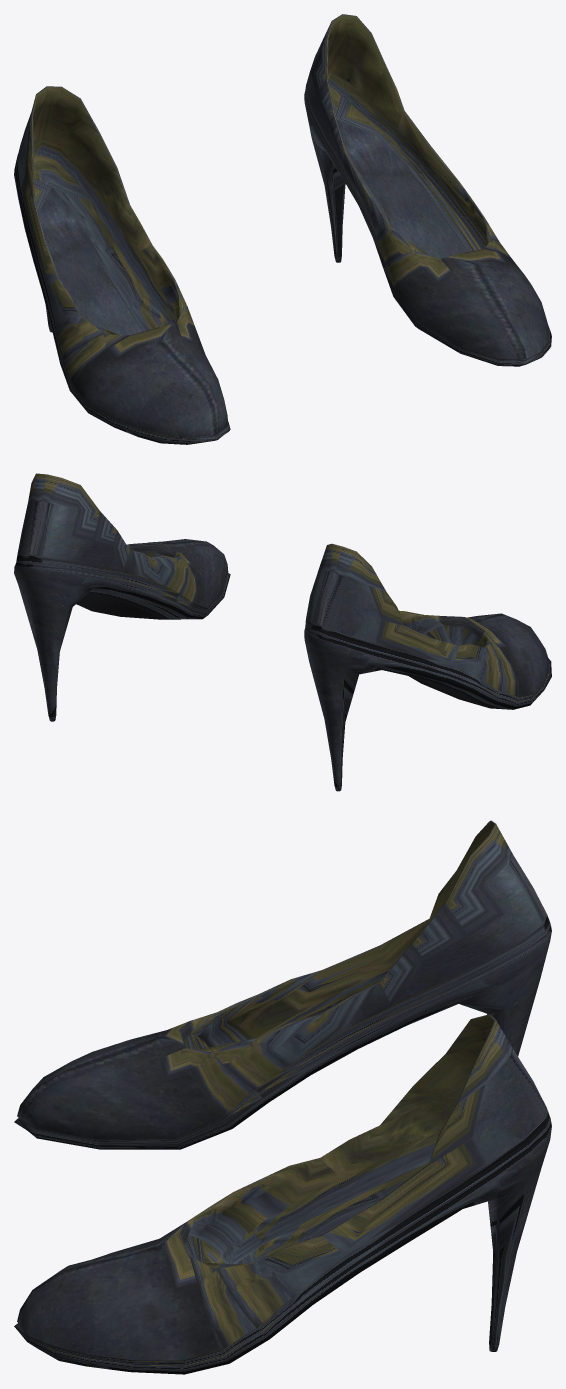
The model's file is 10141_HighHeelShoe_v3_L3.obj.
3 views of the same model, one above another, from view 1: azimuth 30°, elevation 25°; view 2: azimuth 150°, elevation 25°; view 3: azimuth 270°, elevation 25° (orthographic). The views are drawn at different scales.
Visible parts, largest first — view 1: 10141_HighHeelShoe_v3_L3; view 2: 10141_HighHeelShoe_v3_L3; view 3: 10141_HighHeelShoe_v3_L3.
Part boxes in pixels (x1,y1,x2,y2): 10141_HighHeelShoe_v3_L3: (14,14,551,444); 10141_HighHeelShoe_v3_L3: (14,473,551,791); 10141_HighHeelShoe_v3_L3: (14,820,551,1374).
Size of the model in its own units: 15.99 by 8.38 by 12.23.
Materials: 1 (1 with a texture image).
